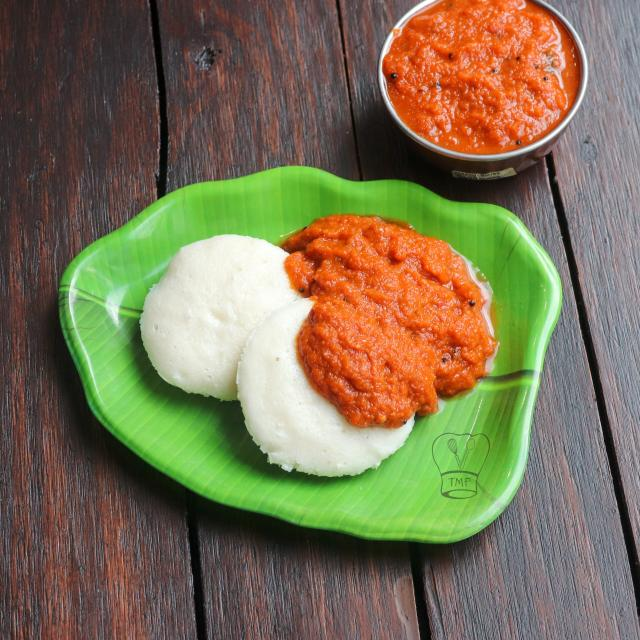idly: (237, 299, 414, 476), (141, 234, 299, 400)
kaara chutney: (288, 198, 500, 406), (375, 0, 594, 153)
